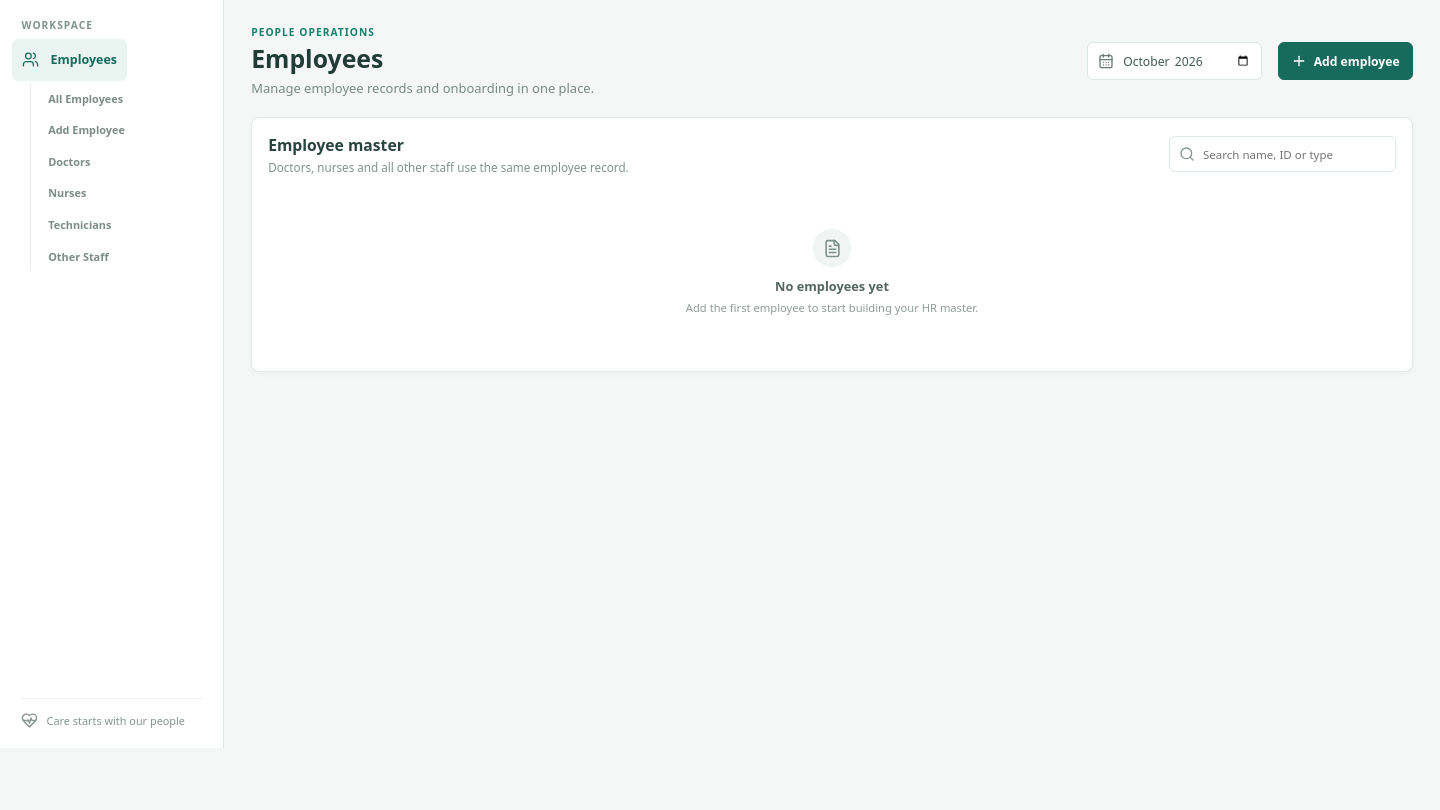
Test: PayrollPage › keeps employee onboarding available in its separate embedded workspace
This screenshot has width=1440, height=810.
Expected: the heading "Employees" is shown, [251,41,383,75]
What coordinates should you click on to do the following:
click the button "Add employee"
I would click on:
 (1345, 61)
Its box is [1278,42,1413,80].
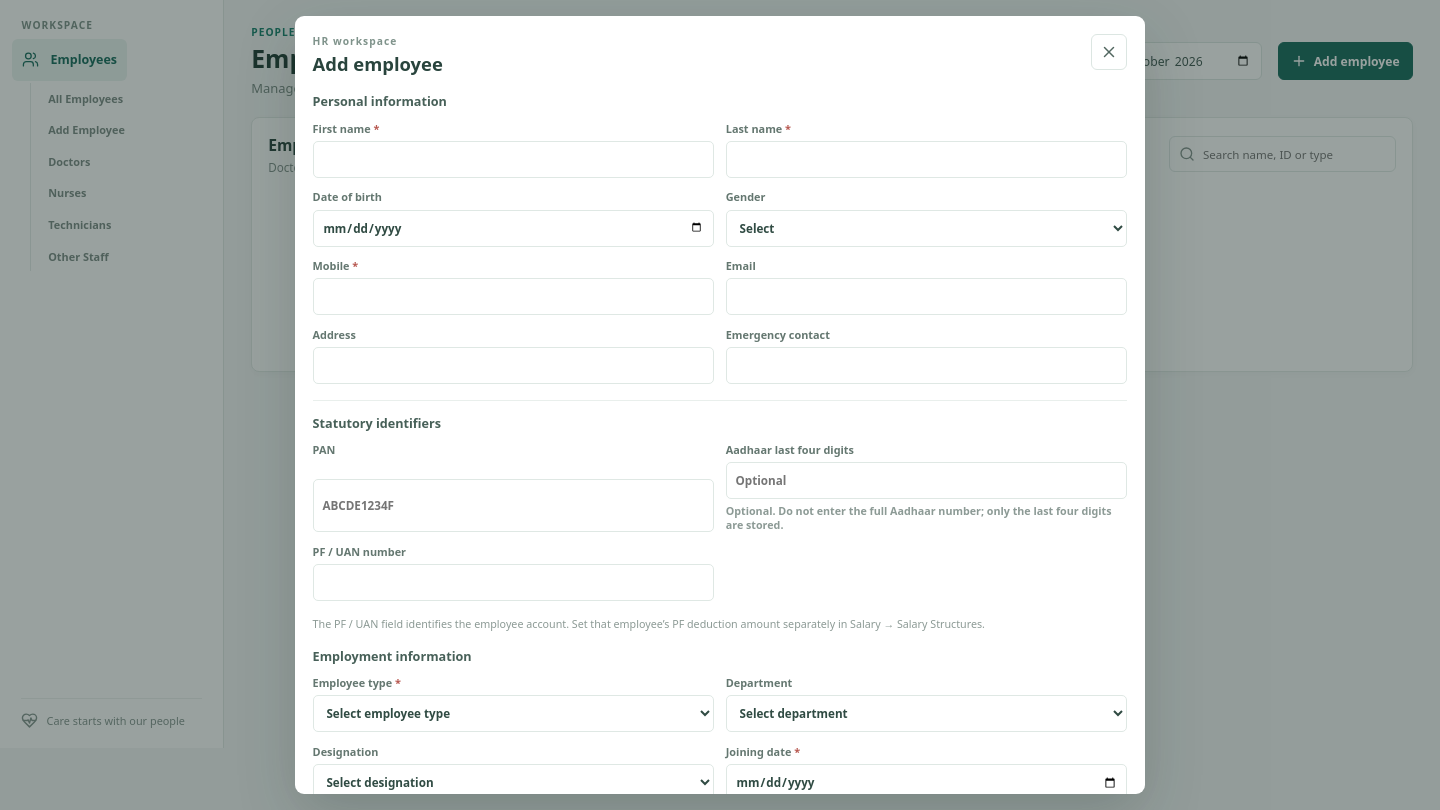
Expected: the dialog "Add employee" is shown, [295,16,1145,794]
